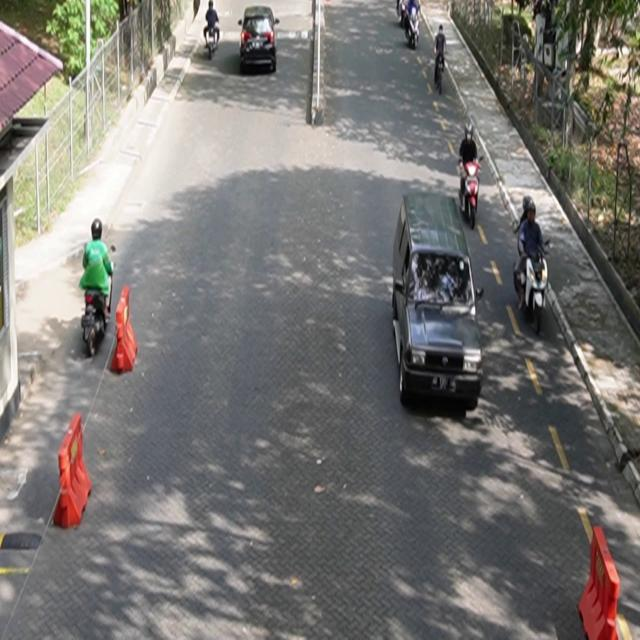car: (392, 191, 485, 411), (239, 6, 280, 73)
